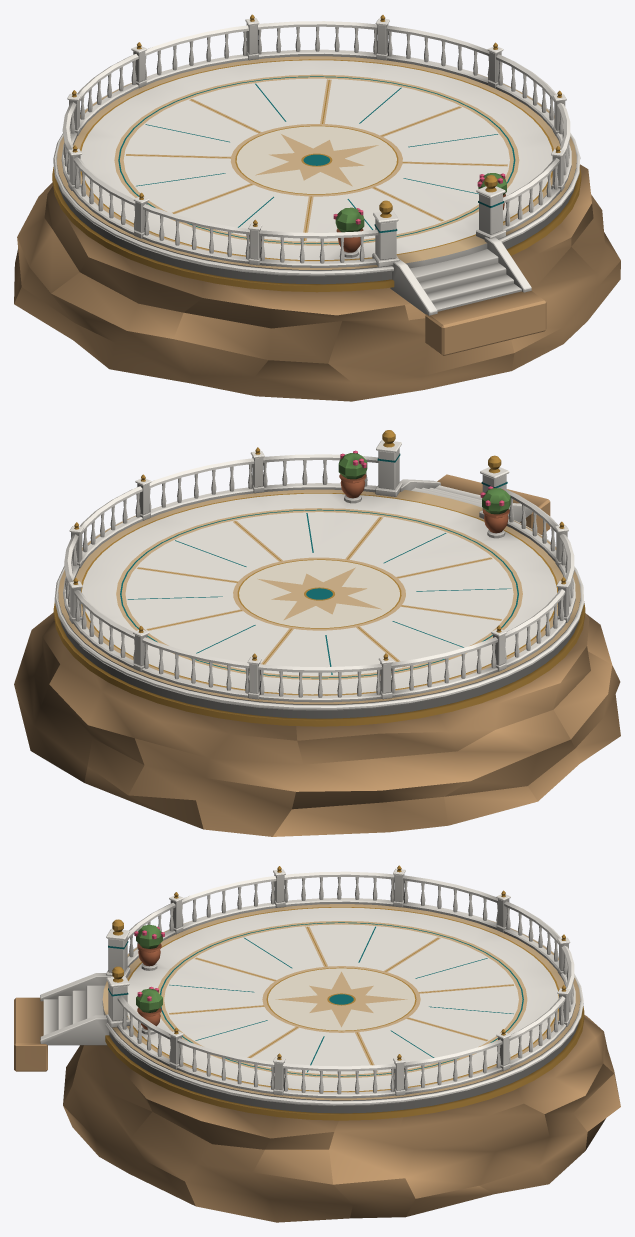
File: atelier_platform.fbx
3 renders of one model, top to bottom at view 1: azimuth 30°, elevation 25°; view 2: azimuth 150°, elevation 25°; view 3: azimuth 270°, elevation 25°, orthographic. The views are drawn at different scales.
Visible parts, largest first — view 1: atelier_platform; view 2: atelier_platform; view 3: atelier_platform.
Part boxes in pixels (x1,y1,x2,y2): atelier_platform: (14, 14, 620, 401); atelier_platform: (14, 430, 620, 836); atelier_platform: (14, 865, 620, 1222).
Size of the model in its own units: 16.1 by 5.35 by 17.79.
